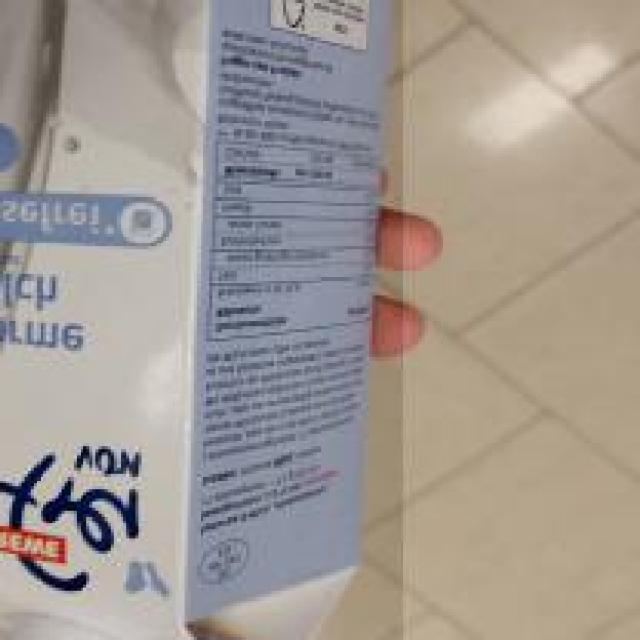milk: (0, 0, 406, 640)
